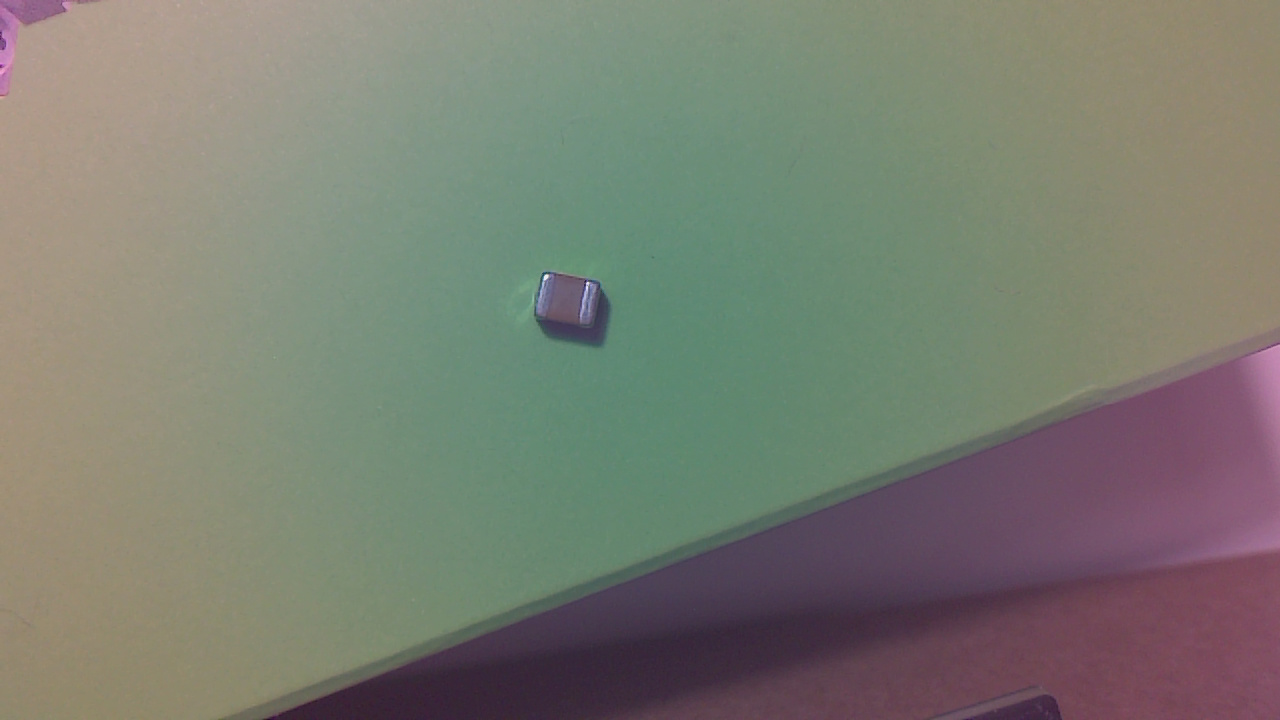Condensator: (537, 274, 612, 338)
